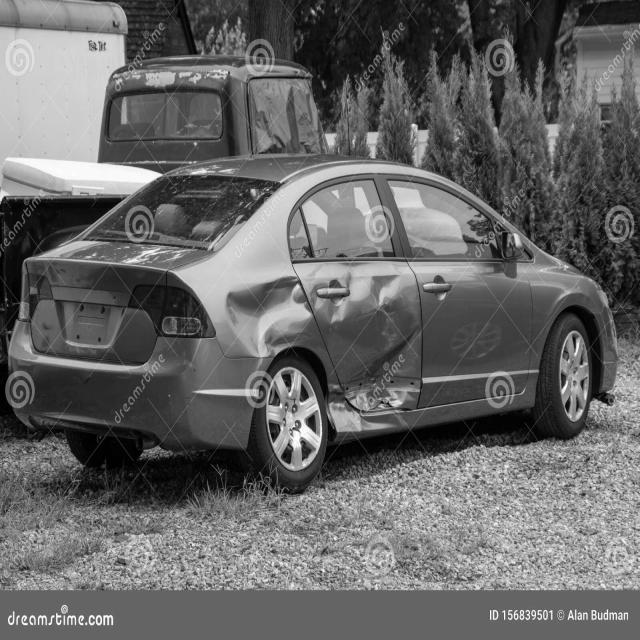crush: (216, 266, 427, 442)
